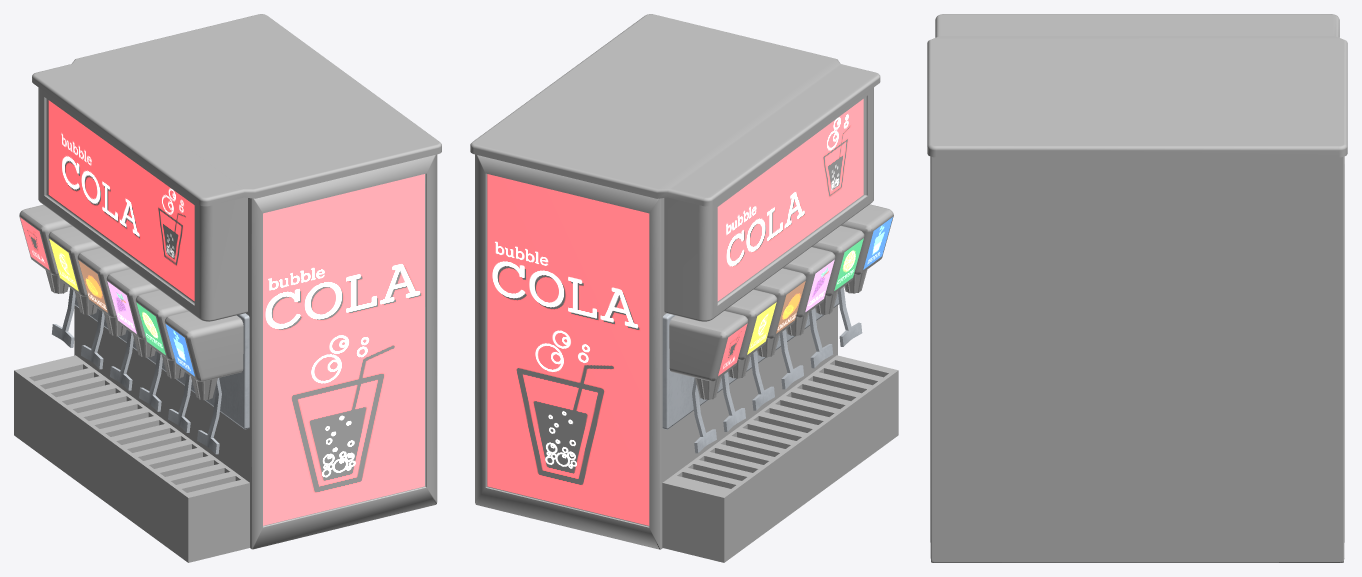
Rendered from SM_SodaMachine.fbx.
The picture shows the model from 3 angles, left to right: view 1: azimuth 30°, elevation 25°; view 2: azimuth 150°, elevation 25°; view 3: azimuth 270°, elevation 25°; orthographic projection. The views are drawn at different scales.
Visible parts, largest first — view 1: SM_SodaMachine_LOD0; view 2: SM_SodaMachine_LOD0; view 3: SM_SodaMachine_LOD0.
Part boxes in pixels (box(x1,y1,x2,y2)): SM_SodaMachine_LOD0: box(14, 14, 441, 562); SM_SodaMachine_LOD0: box(470, 14, 898, 562); SM_SodaMachine_LOD0: box(927, 14, 1347, 562).
Size of the model in its own units: 56.82 by 70.14 by 77.24.
